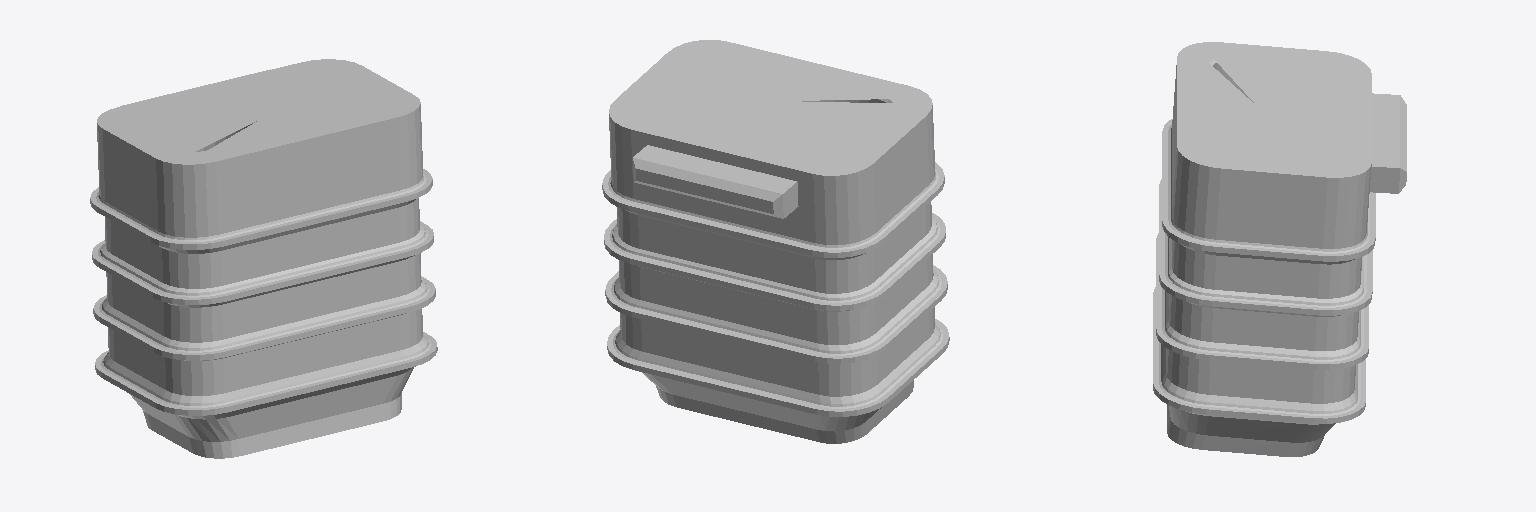
Rendered from Engine Part.obj.
The picture shows the model from 3 angles: view 1: azimuth 30°, elevation 25°; view 2: azimuth 150°, elevation 25°; view 3: azimuth 270°, elevation 25°; orthographic projection.
Parts seen in each view (by area): view 1: Cube.026; view 2: Cube.026; view 3: Cube.026.
Part boxes in pixels (x1,y1,x2,y2): Cube.026: (90, 59, 437, 458); Cube.026: (602, 40, 949, 443); Cube.026: (1153, 42, 1406, 456).
Bounding box in the file's own units: 11.23 × 12.05 × 9.